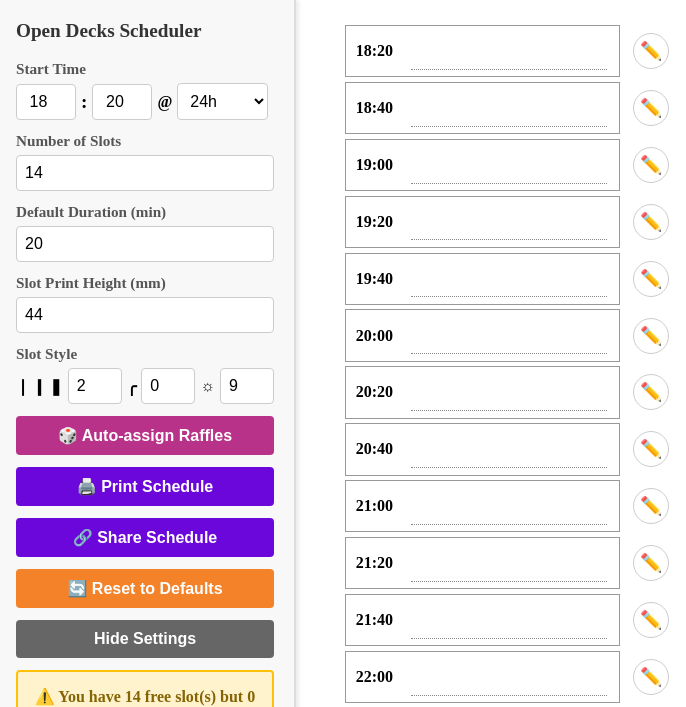
Scenario: App Component › should auto-assign raffles when button is clicked
Click the button "🎲 Auto-assign Raffles" at [145, 436], box [16,416,274,455]
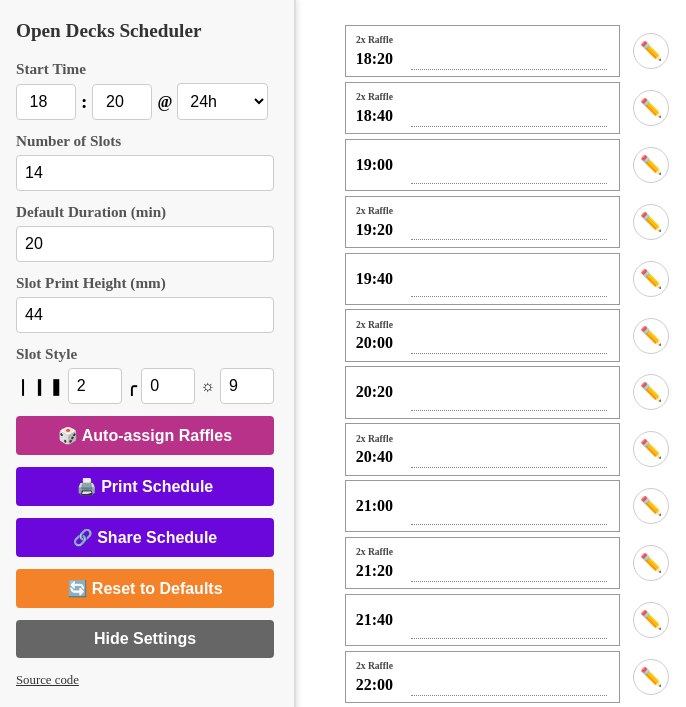
Check: the 1st text "2x Raffle" is shown, box [356,34,393,50]
